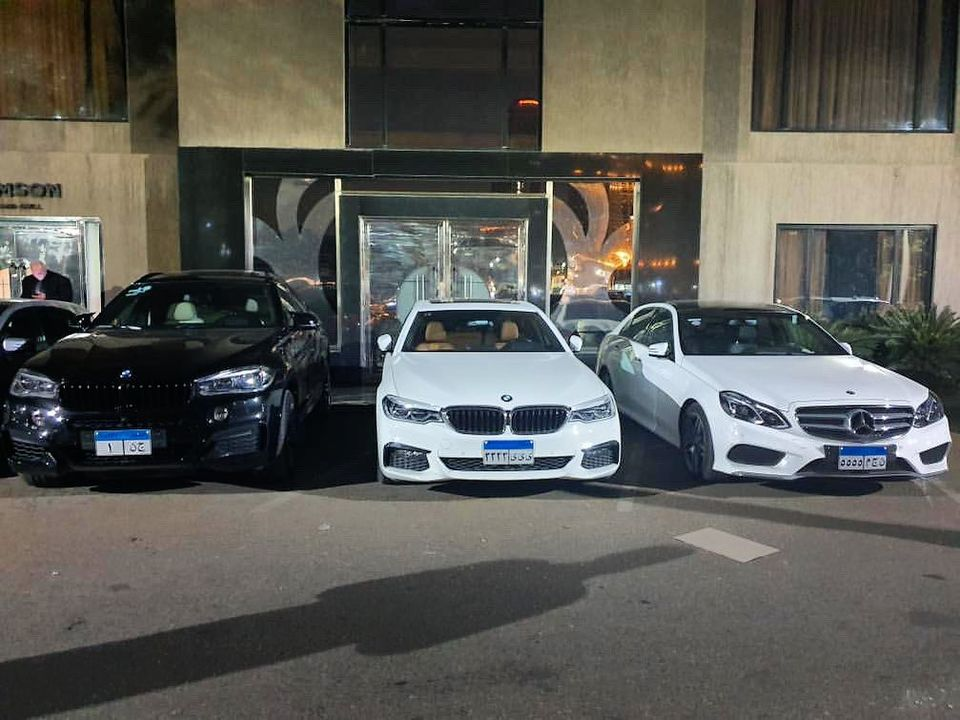carpl: (94, 427, 153, 456), (481, 442, 538, 464), (836, 452, 890, 470)
